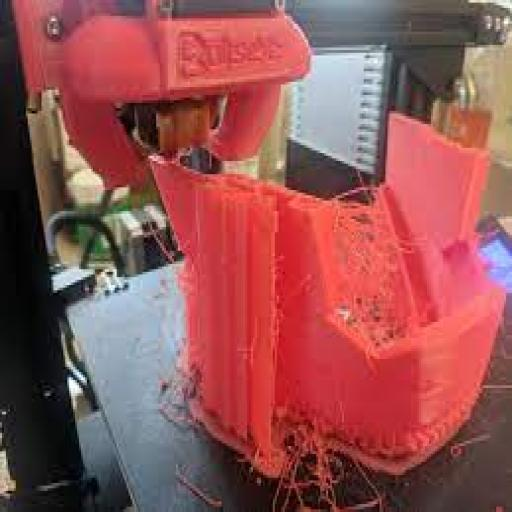spaghetti: (263, 222, 334, 508), (332, 189, 416, 335), (159, 221, 208, 424)
